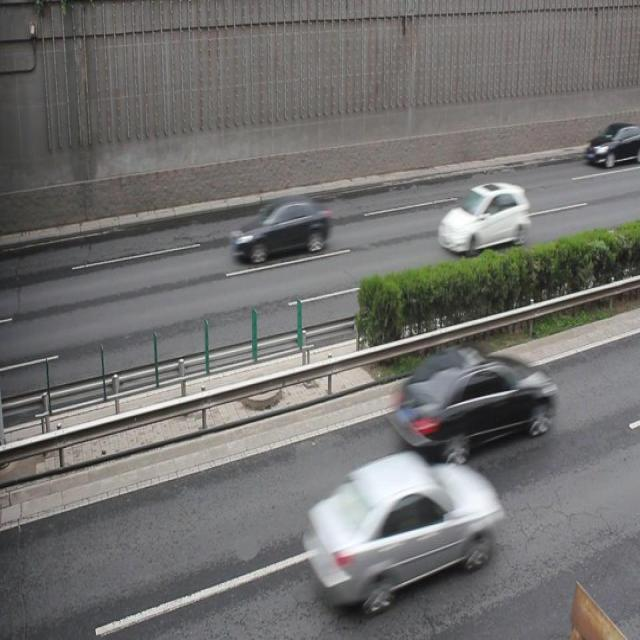car: (301, 446, 499, 618), (395, 341, 554, 460), (230, 193, 330, 263), (437, 180, 528, 254), (582, 121, 640, 166)
